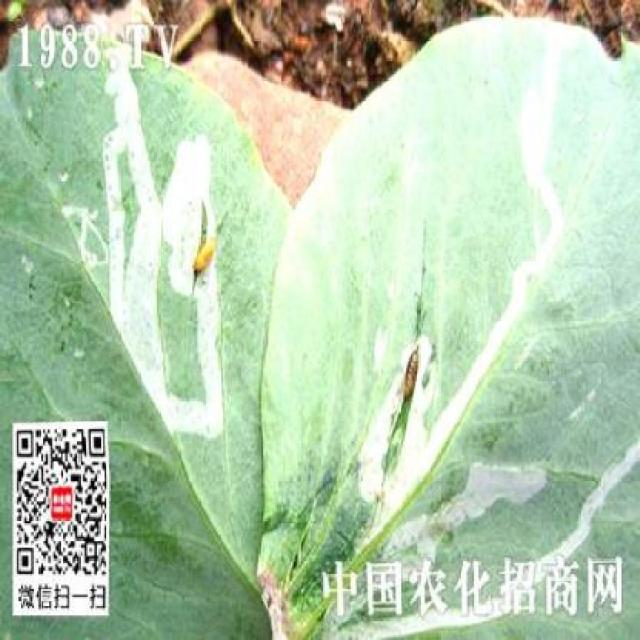whorl-maggot: (186, 227, 226, 290), (399, 334, 423, 414)
